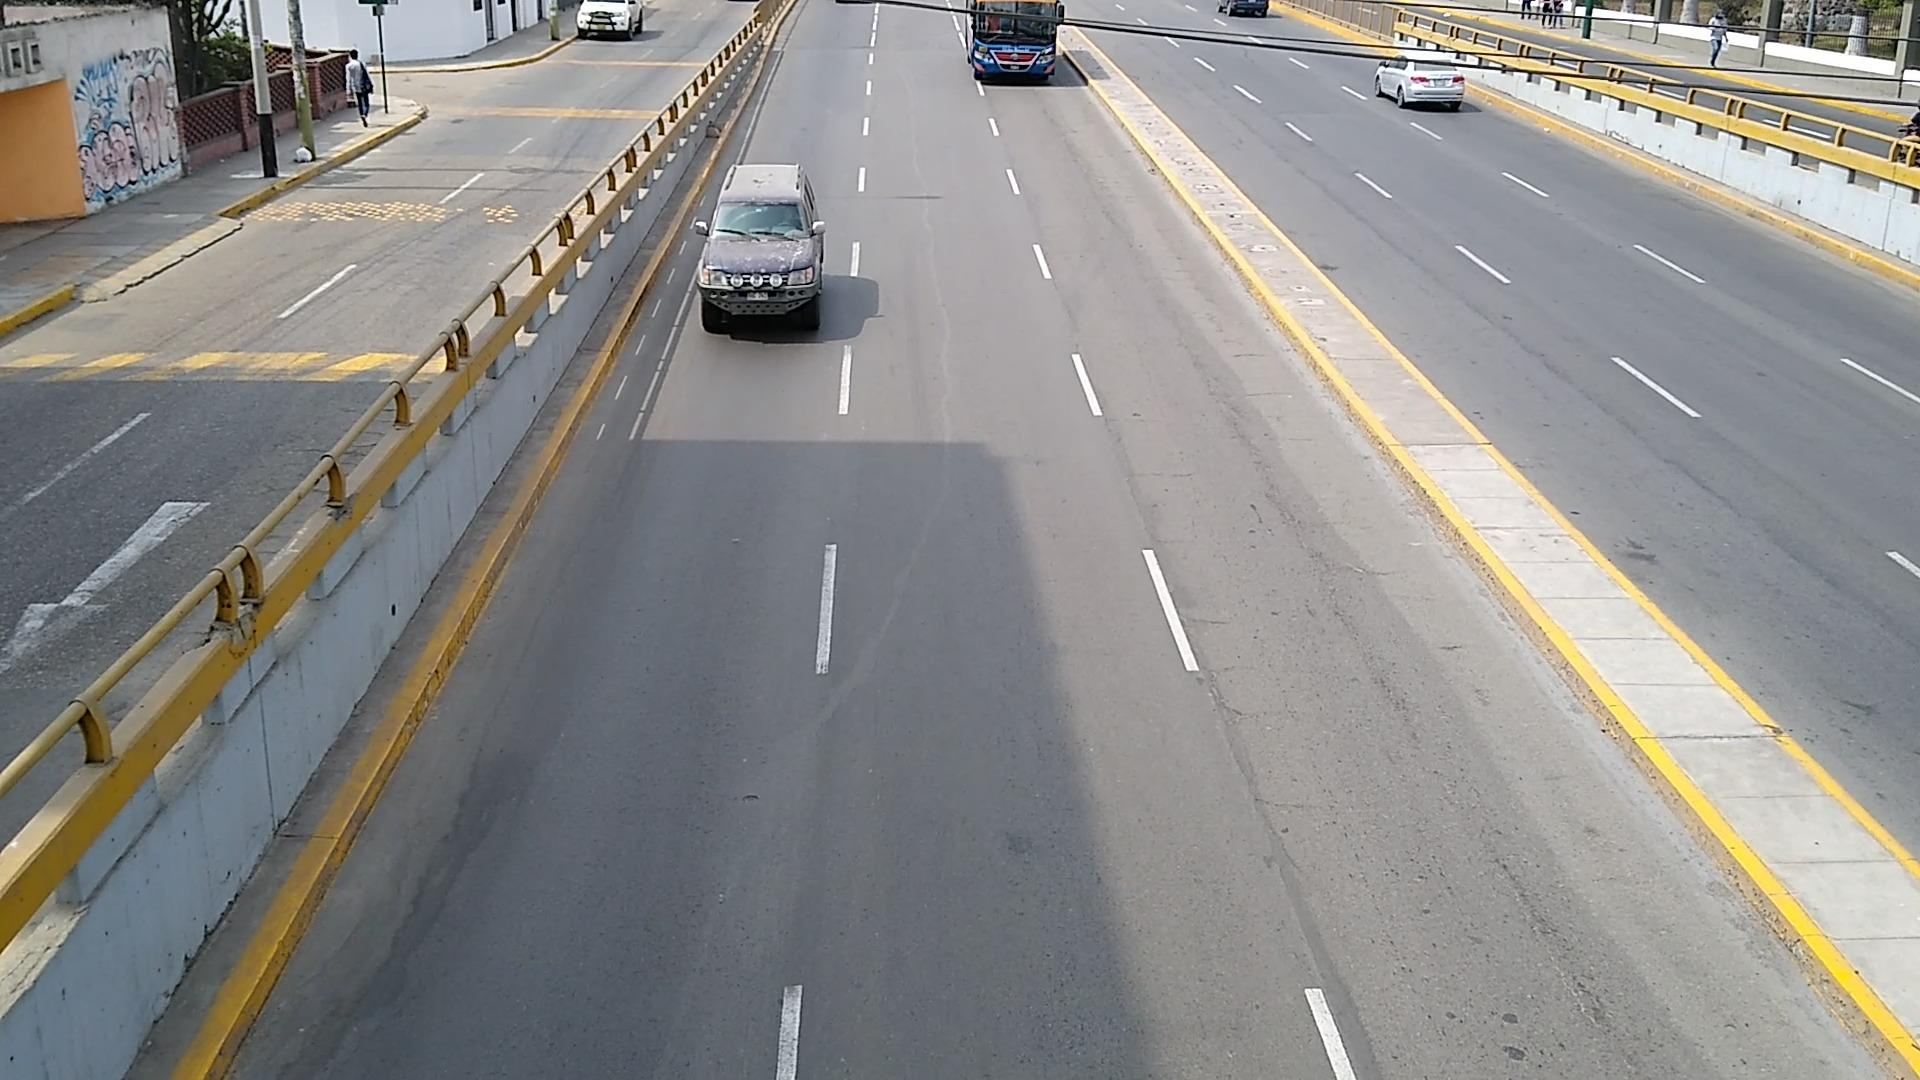bus: (968, 0, 1059, 79)
car: (694, 165, 825, 334), (1377, 57, 1466, 107), (578, 0, 645, 37)
